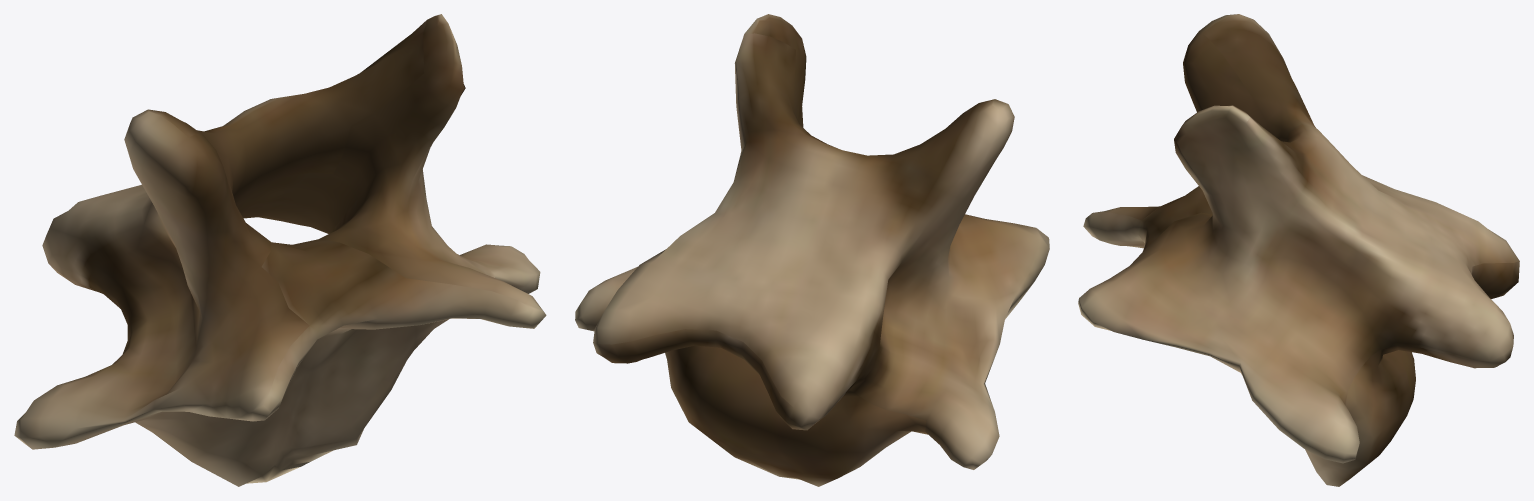
The model's file is Cervical_Vertebrae5.glb.
The picture shows the model from 3 angles, left to right: view 1: azimuth 30°, elevation 25°; view 2: azimuth 150°, elevation 25°; view 3: azimuth 270°, elevation 25°; orthographic projection. The views are drawn at different scales.
Visible parts, largest first — view 1: Horse_low:SelSet_43Merged_L_Frt_Sesamoid_Bones_1; view 2: Horse_low:SelSet_43Merged_L_Frt_Sesamoid_Bones_1; view 3: Horse_low:SelSet_43Merged_L_Frt_Sesamoid_Bones_1.
Part boxes in pixels (box(x1,y1,x2,y2)): Horse_low:SelSet_43Merged_L_Frt_Sesamoid_Bones_1: box(14, 14, 546, 486); Horse_low:SelSet_43Merged_L_Frt_Sesamoid_Bones_1: box(575, 14, 1049, 486); Horse_low:SelSet_43Merged_L_Frt_Sesamoid_Bones_1: box(1078, 14, 1519, 486).
Bounding box in the file's own units: 0.138 × 0.1267 × 0.125.
1 material, 1 textured.
